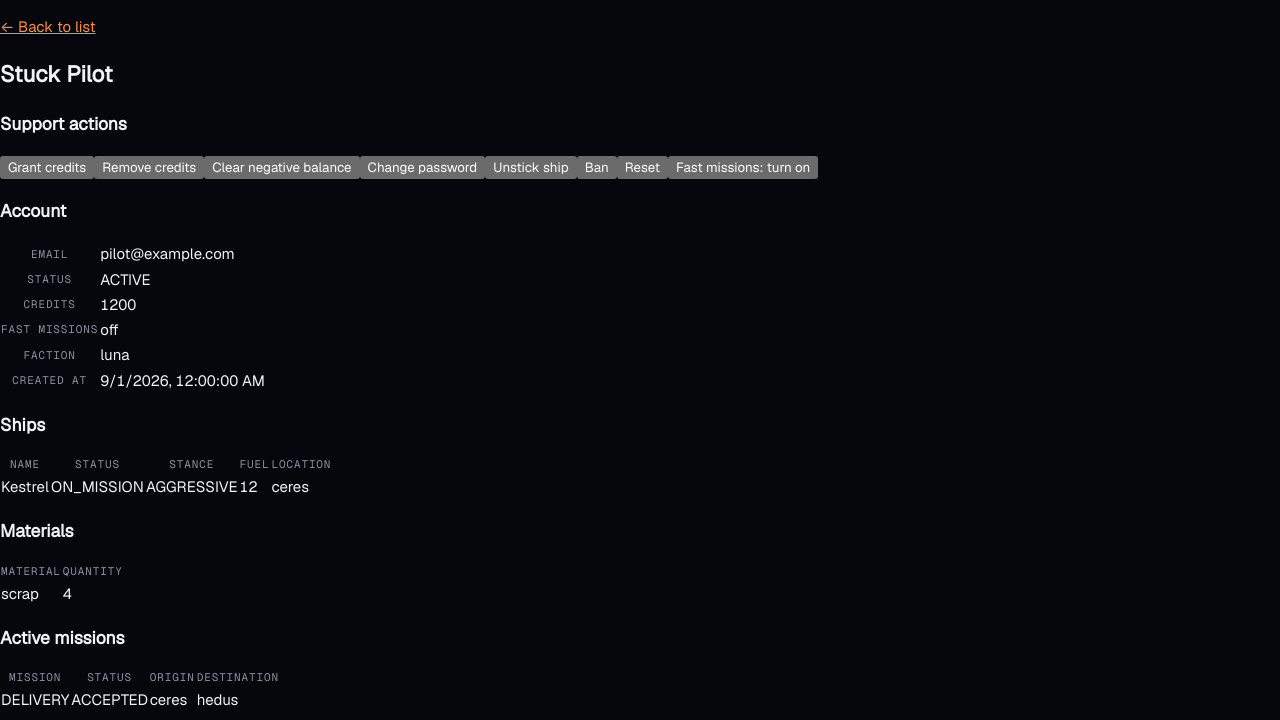
support actions (S11.5, S11.4 acceptance) › sends grant amounts with the reason and surfaces API rejections
Click the button "Grant credits" at (47, 168), box left=0, top=156, right=94, bottom=179
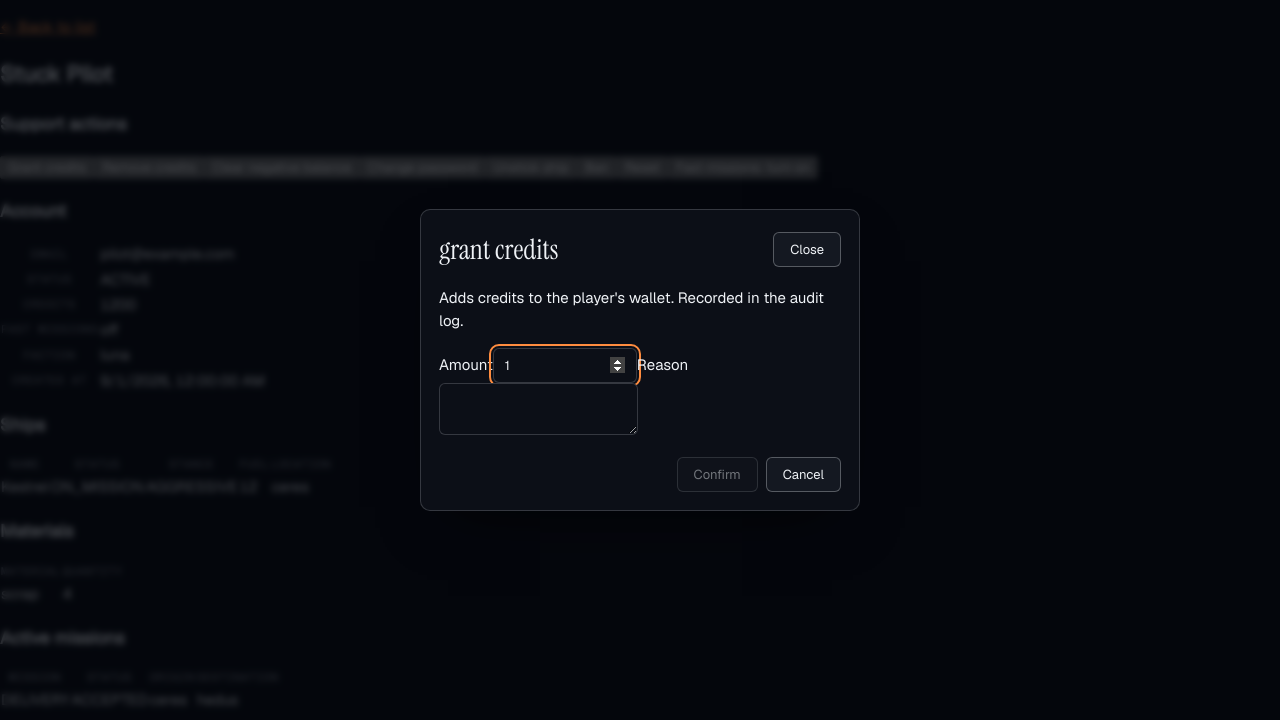
Replace the text in the number field labelled "Amount" with "250" at (565, 365), box left=493, top=348, right=637, bottom=382
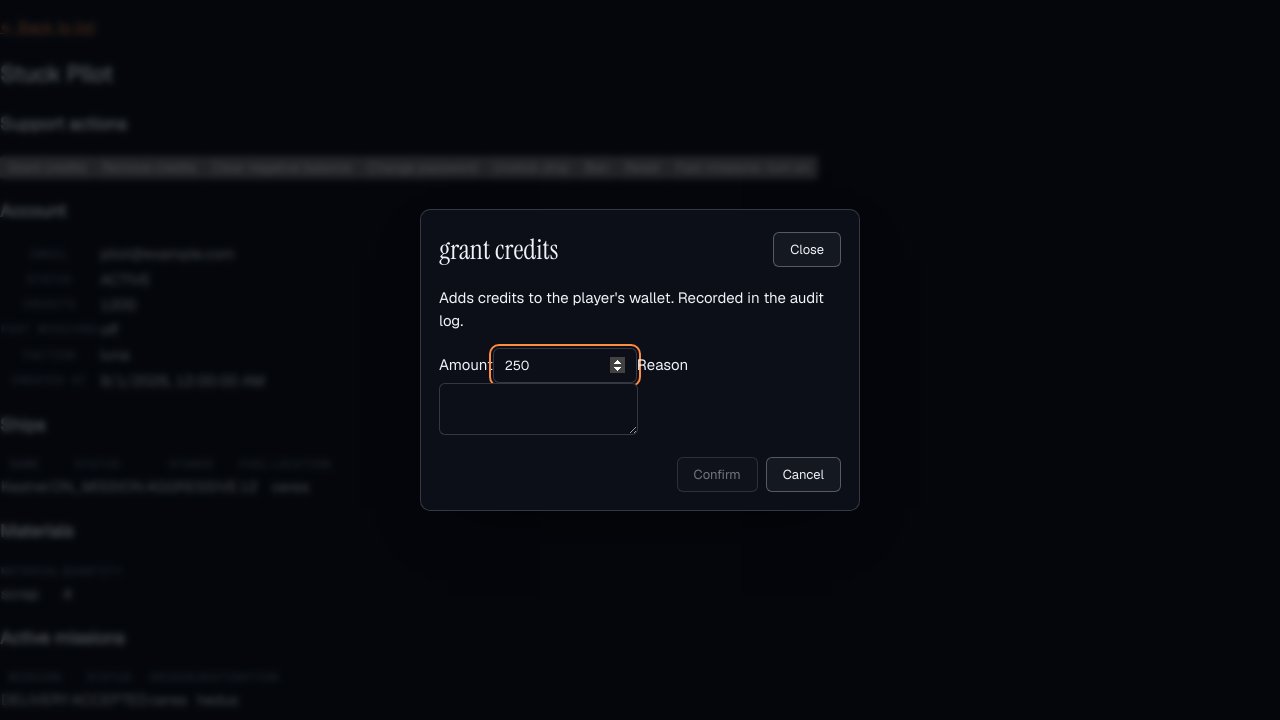
Type "event prize" into the text box labelled "Reason" at (538, 408), box left=439, top=382, right=638, bottom=434
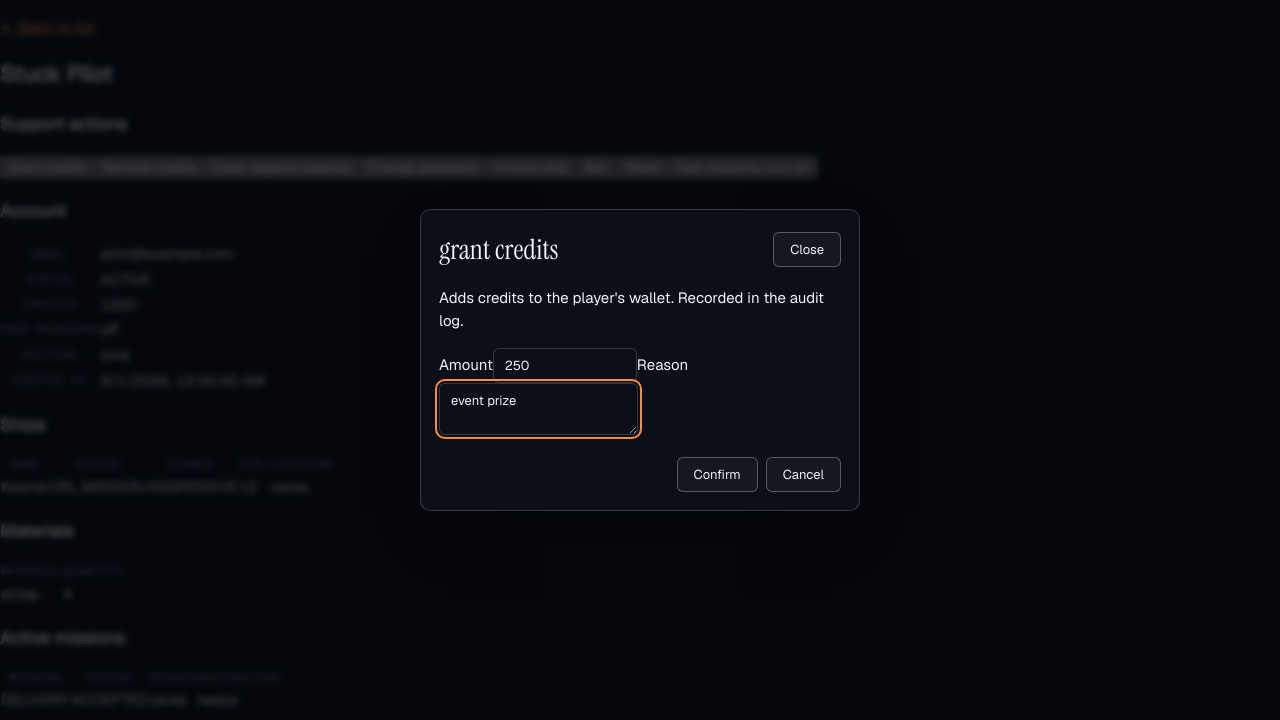
Click the button "Confirm" at (717, 475), box left=677, top=457, right=758, bottom=492
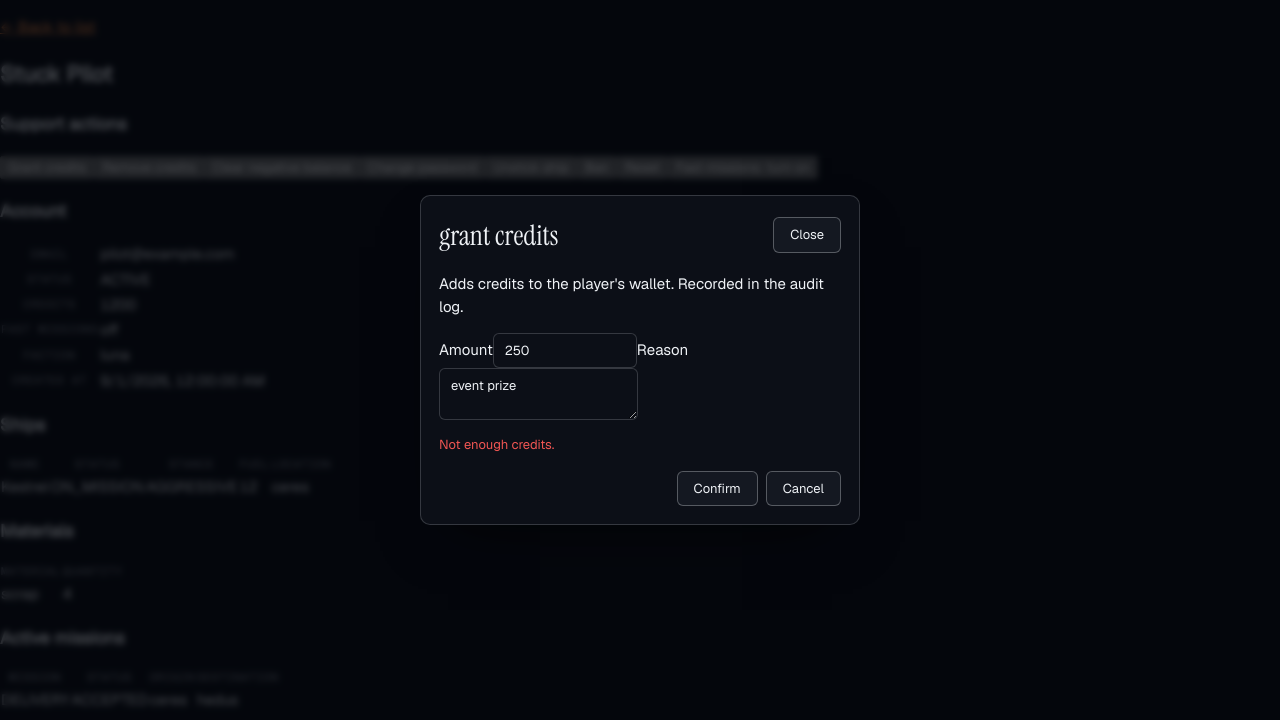
Check: the message "Not enough credits." is shown, box left=439, top=436, right=554, bottom=453
